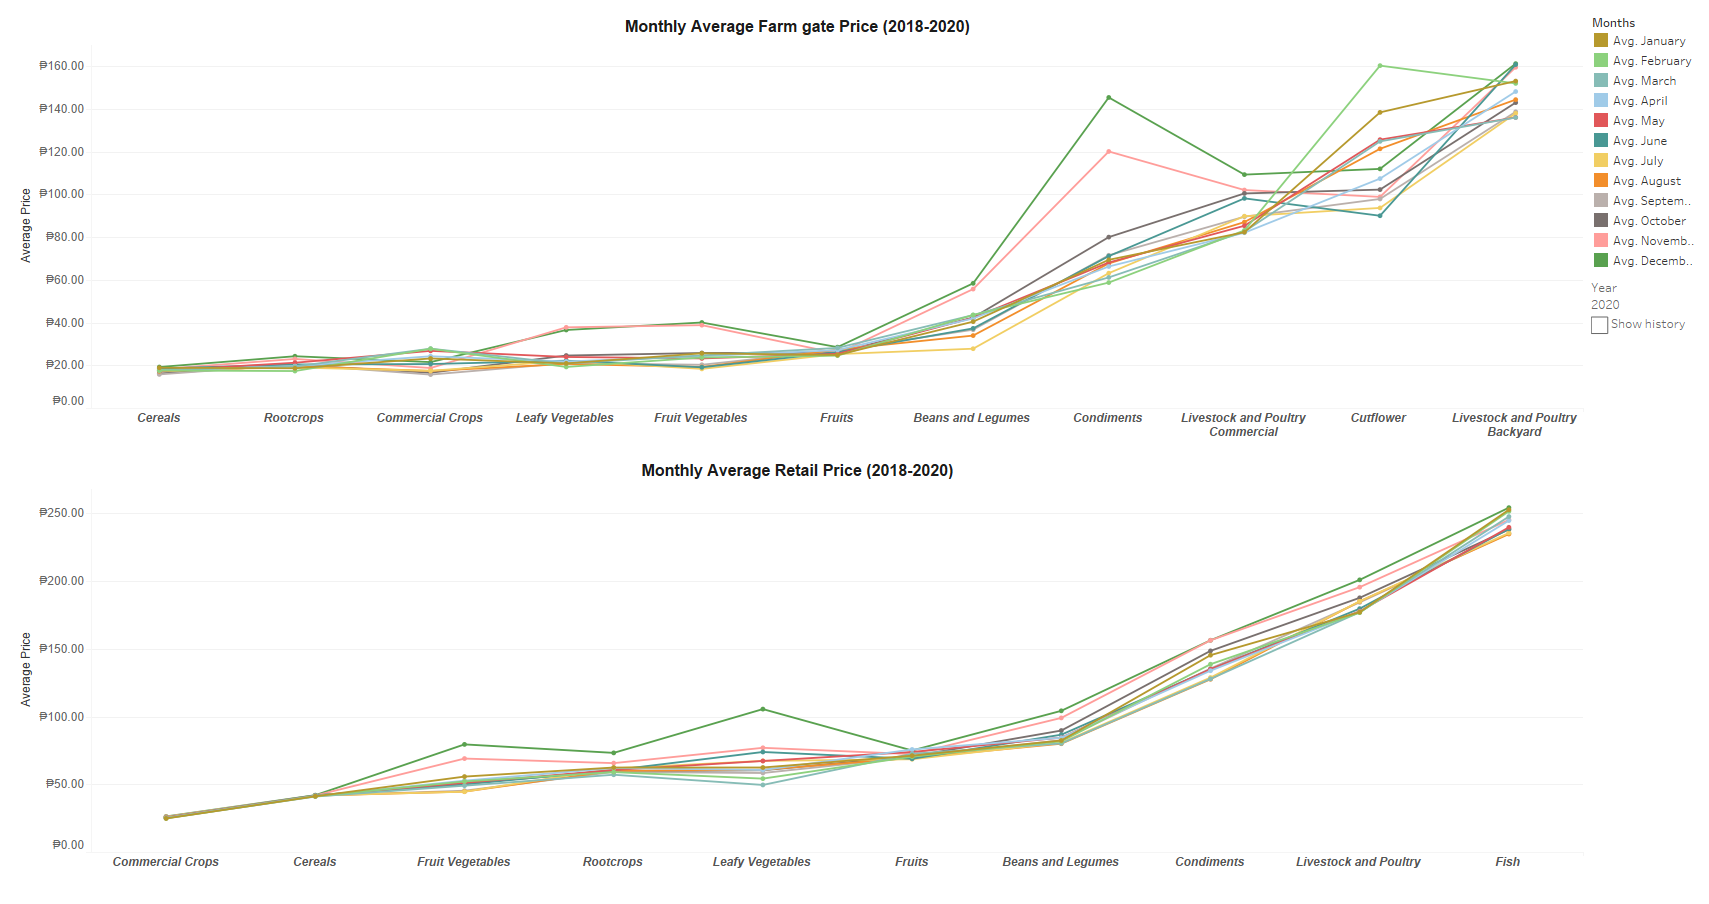

The dashboard page shown, as its layout file describes it:
{"tool":"tableau","page":{"name":"Objective 2","canvas":[1000,1000],"units":"permille","ordinal":2},"visuals":[{"type":"worksheet","title":"Farmgate Price per Month in the past 3 years","mark":"Line","cols":["Type of Commodity"],"box":[4.7,8.8,923.9,491.2]},{"type":"legend","title":"Retail Price per Month in the past 3 years","param":"[federated.11yr58t03ajr2j1fum0s00oflgma].[:Measure Names]","box":[928.6,8.8,66.7,294.2]},{"type":"currpage","title":"Retail Price per Month in the past 3 years","box":[928.6,303.1,66.7,77.4]},{"type":"worksheet","title":"Retail Price per Month in the past 3 years","mark":"Line","cols":["Type of Commodity"],"box":[4.7,500,923.9,491.2]}]}

Visuals, with their boxes on the dashboard's canvas, which has no fixed pixel size, in thousandths of its width and height (x1, y1, x2, y2). These are canvas units, not pixel positions in the 1709x904 screenshot, which may show the page scaled, cropped or inside an application window:
"Farmgate Price per Month in the past 3 years" worksheet (Line marks): BBox(5, 9, 929, 500)
"Retail Price per Month in the past 3 years" legend: BBox(929, 9, 995, 303)
"Retail Price per Month in the past 3 years" currpage: BBox(929, 303, 995, 380)
"Retail Price per Month in the past 3 years" worksheet (Line marks): BBox(5, 500, 929, 991)
